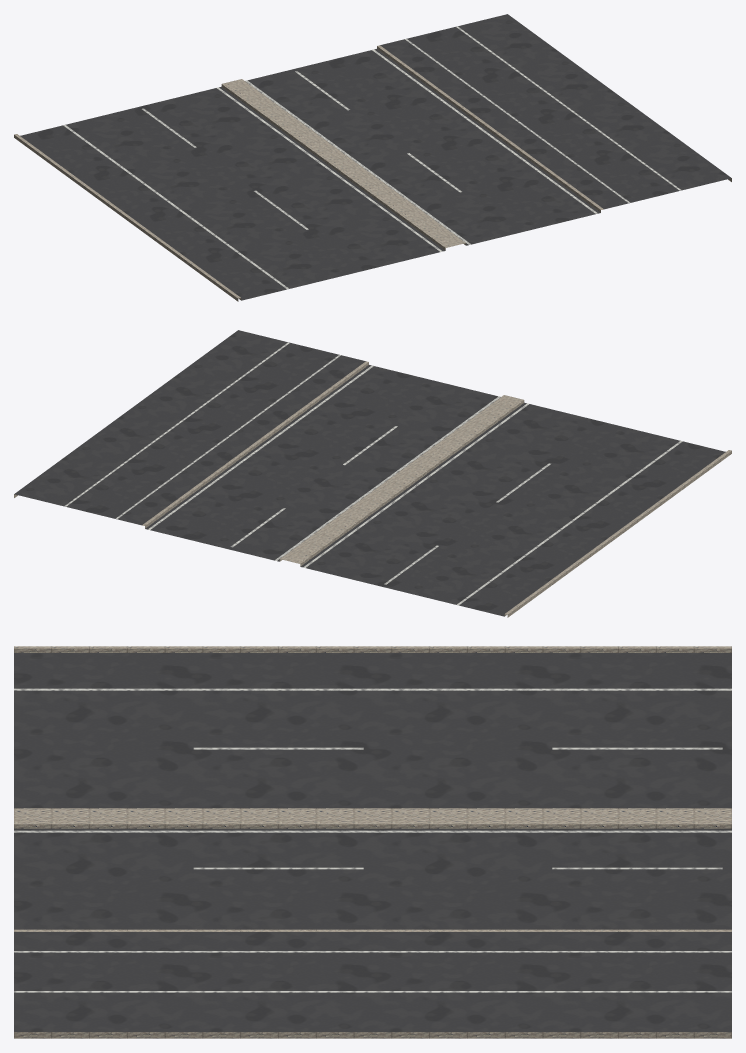
The model's file is SM_Viale_Italia_Strada_LOD1.fbx.
The picture shows the model from 3 angles, top to bottom: view 1: azimuth 30°, elevation 25°; view 2: azimuth 150°, elevation 25°; view 3: azimuth 270°, elevation 25°; orthographic projection. The views are drawn at different scales.
Visible parts, largest first — view 1: SM_Viale_Italia_Strada_LOD1; view 2: SM_Viale_Italia_Strada_LOD1; view 3: SM_Viale_Italia_Strada_LOD1.
Boxes of the visible parts, x1,y1,x2,y2 form: SM_Viale_Italia_Strada_LOD1: [14, 14, 731, 301]; SM_Viale_Italia_Strada_LOD1: [14, 330, 731, 617]; SM_Viale_Italia_Strada_LOD1: [14, 646, 731, 1038].
Bounding box in the file's own units: 2415 × 1900 × 20.5.
Materials: 3 (3 with a texture image).
